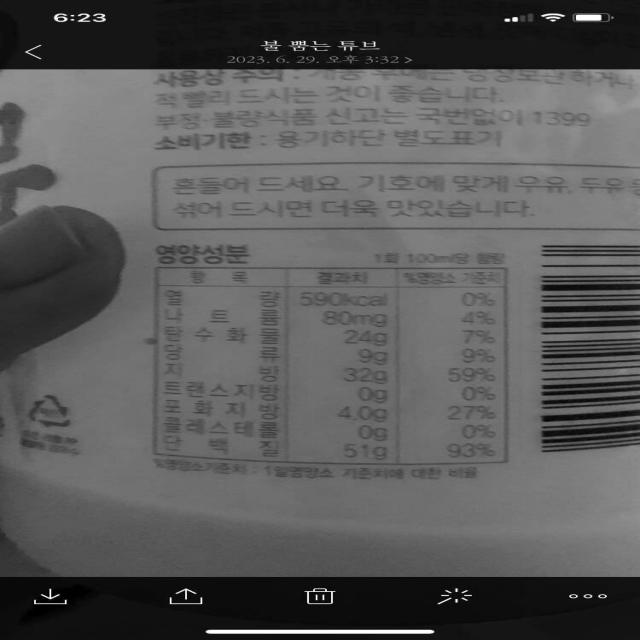Nutrition Label: (145, 241, 524, 475)
